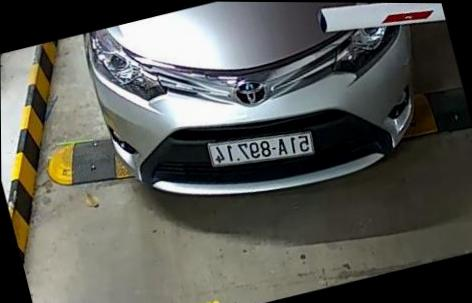License_Plate: (207, 127, 316, 171)
